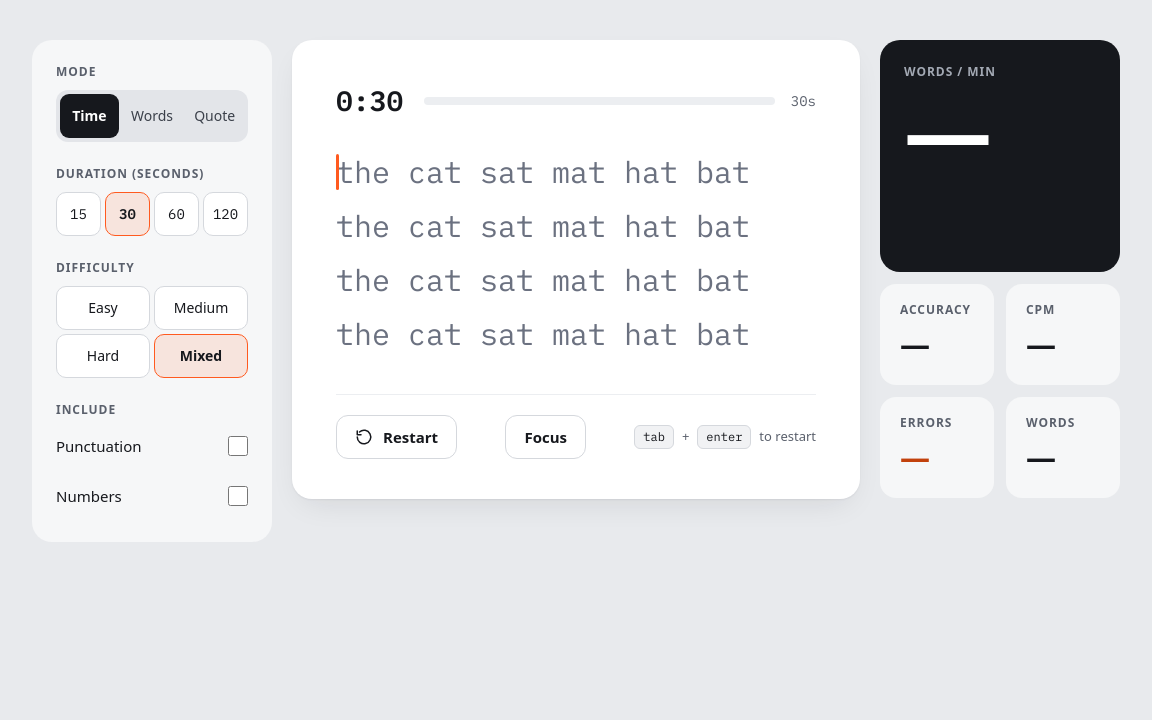
TypingTest › shows a click-to-start prompt only while unfocused and idle
Check: the text "click here to start typing" is not shown
Click the element that starts with "Mode".
click(576, 677)  # box x1=0 y1=0 x2=1151 y2=719
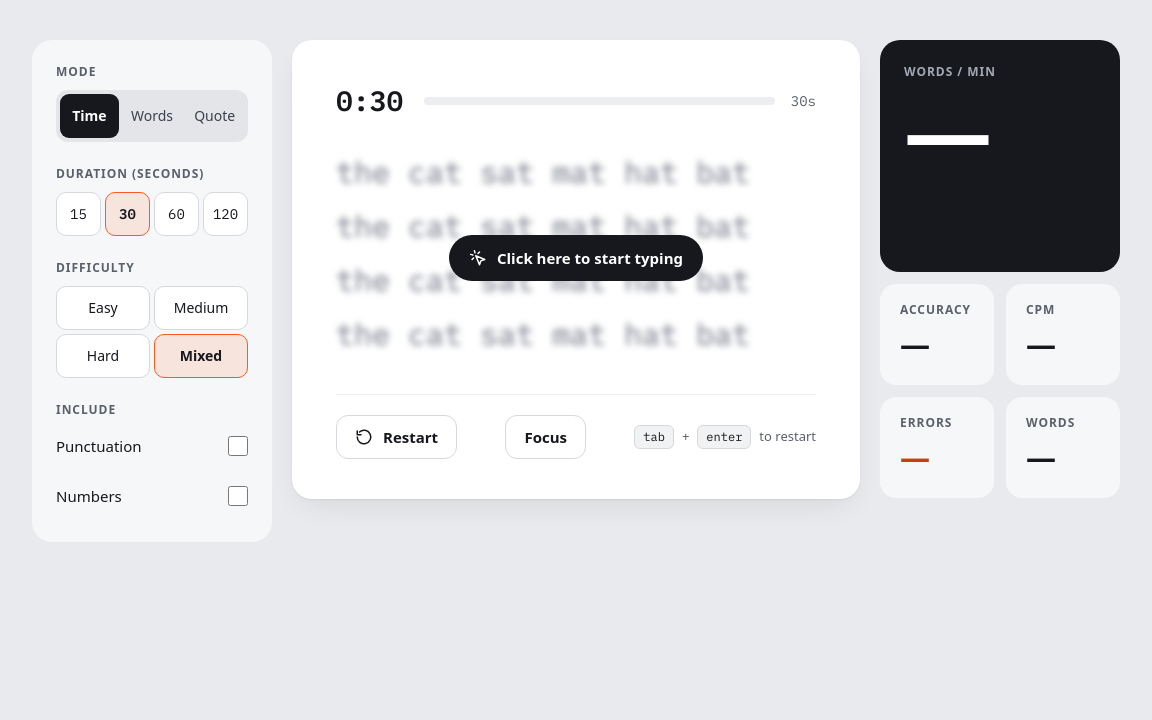
Check: the text "Click here to start typing" is shown, box x1=449 y1=235 x2=703 y2=281
